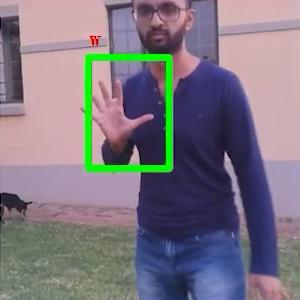follow_hand: (76, 75, 154, 147)
